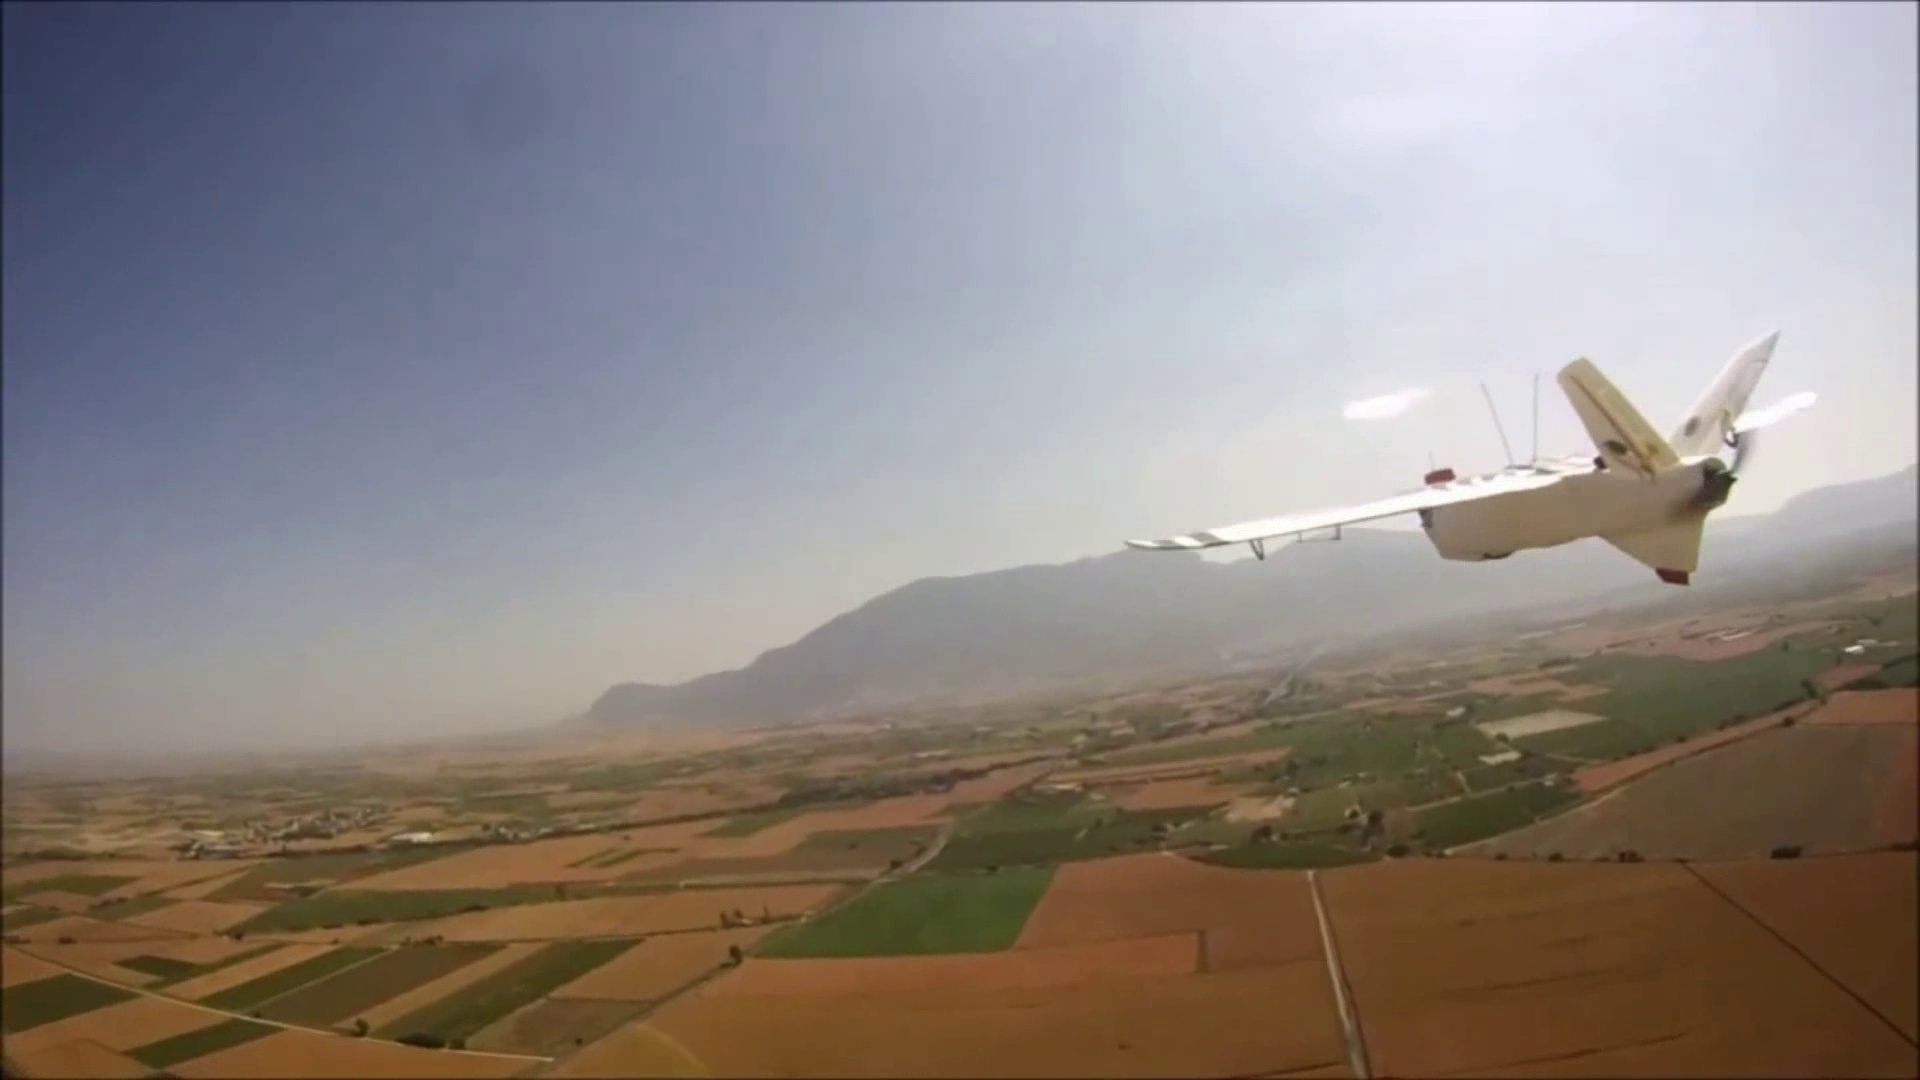airplane: (1127, 325, 1818, 588)
